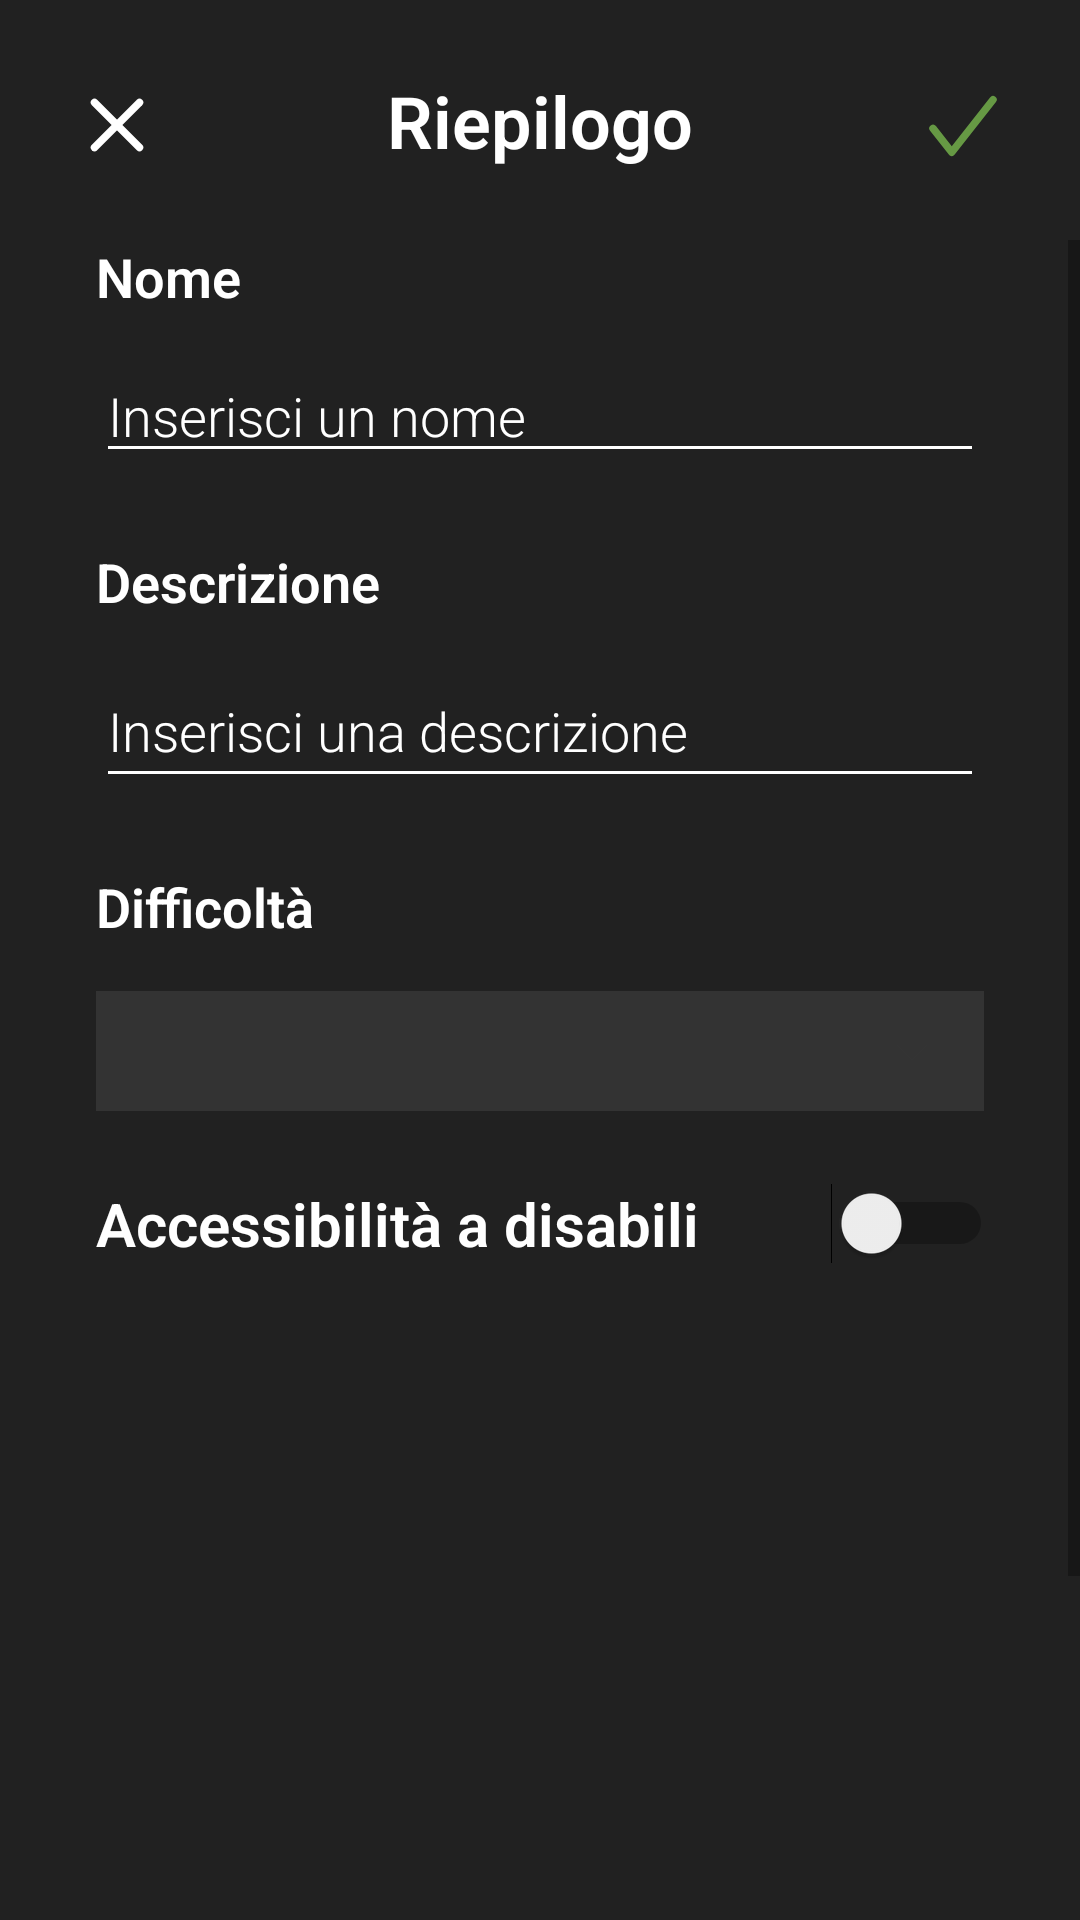

Locate icon controls on the screen. Image size 1080×1920, boxes as (x1, y1, x2, y2).
check: (929, 96, 997, 156)
cross: (90, 98, 144, 152)
